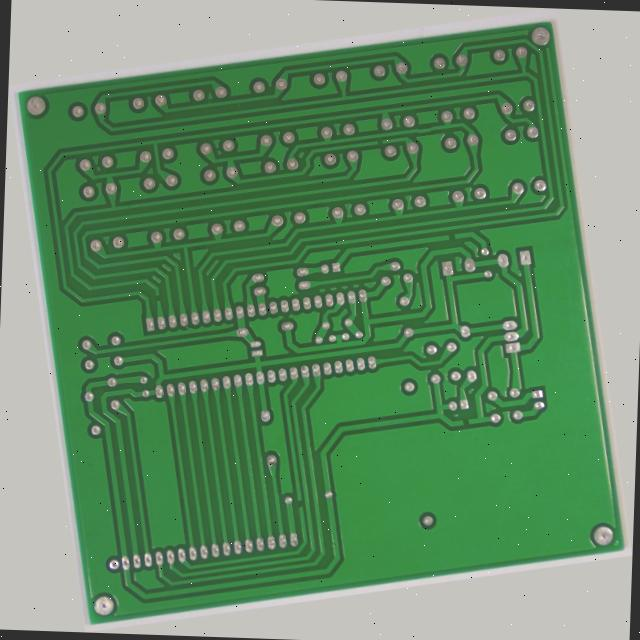open_circuit: (480, 245, 495, 258), (459, 460, 474, 472), (254, 518, 266, 532), (133, 255, 144, 269), (417, 124, 431, 134)
